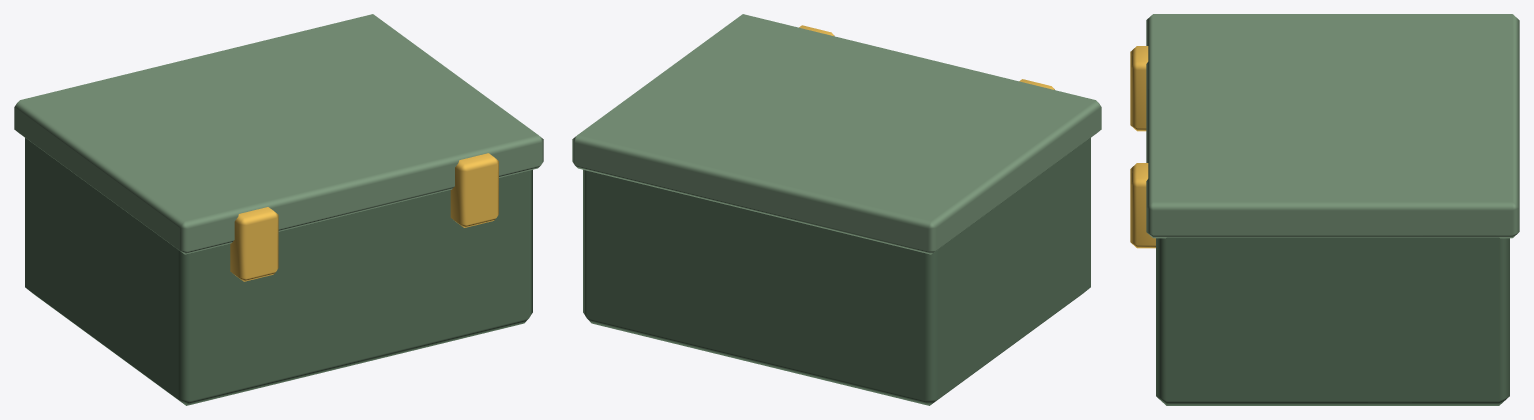
The model's file is field_case.glb.
The picture shows the model from 3 angles, left to right: view 1: azimuth 30°, elevation 25°; view 2: azimuth 150°, elevation 25°; view 3: azimuth 270°, elevation 25°; orthographic projection. The views are drawn at different scales.
Visible parts, largest first — view 1: field_case; view 2: field_case; view 3: field_case.
Boxes of the visible parts, box(x1,y1,x2,y2) form: field_case: box(14, 14, 543, 405); field_case: box(572, 14, 1101, 405); field_case: box(1130, 14, 1519, 405).
Bounding box in the file's own units: 1.19 × 0.5975 × 1.01.
